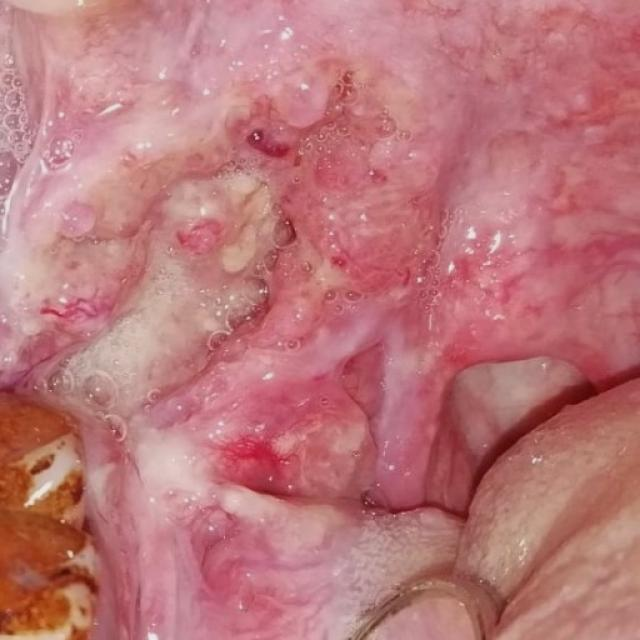cancer-detection: (13, 22, 630, 628)
processing_area: (3, 1, 637, 638)
